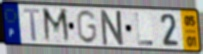2: (159, 13, 181, 48)
G: (75, 9, 99, 45)
L: (134, 12, 155, 47)
M: (41, 7, 73, 46)
N: (100, 9, 126, 48)
T: (22, 7, 42, 43)
